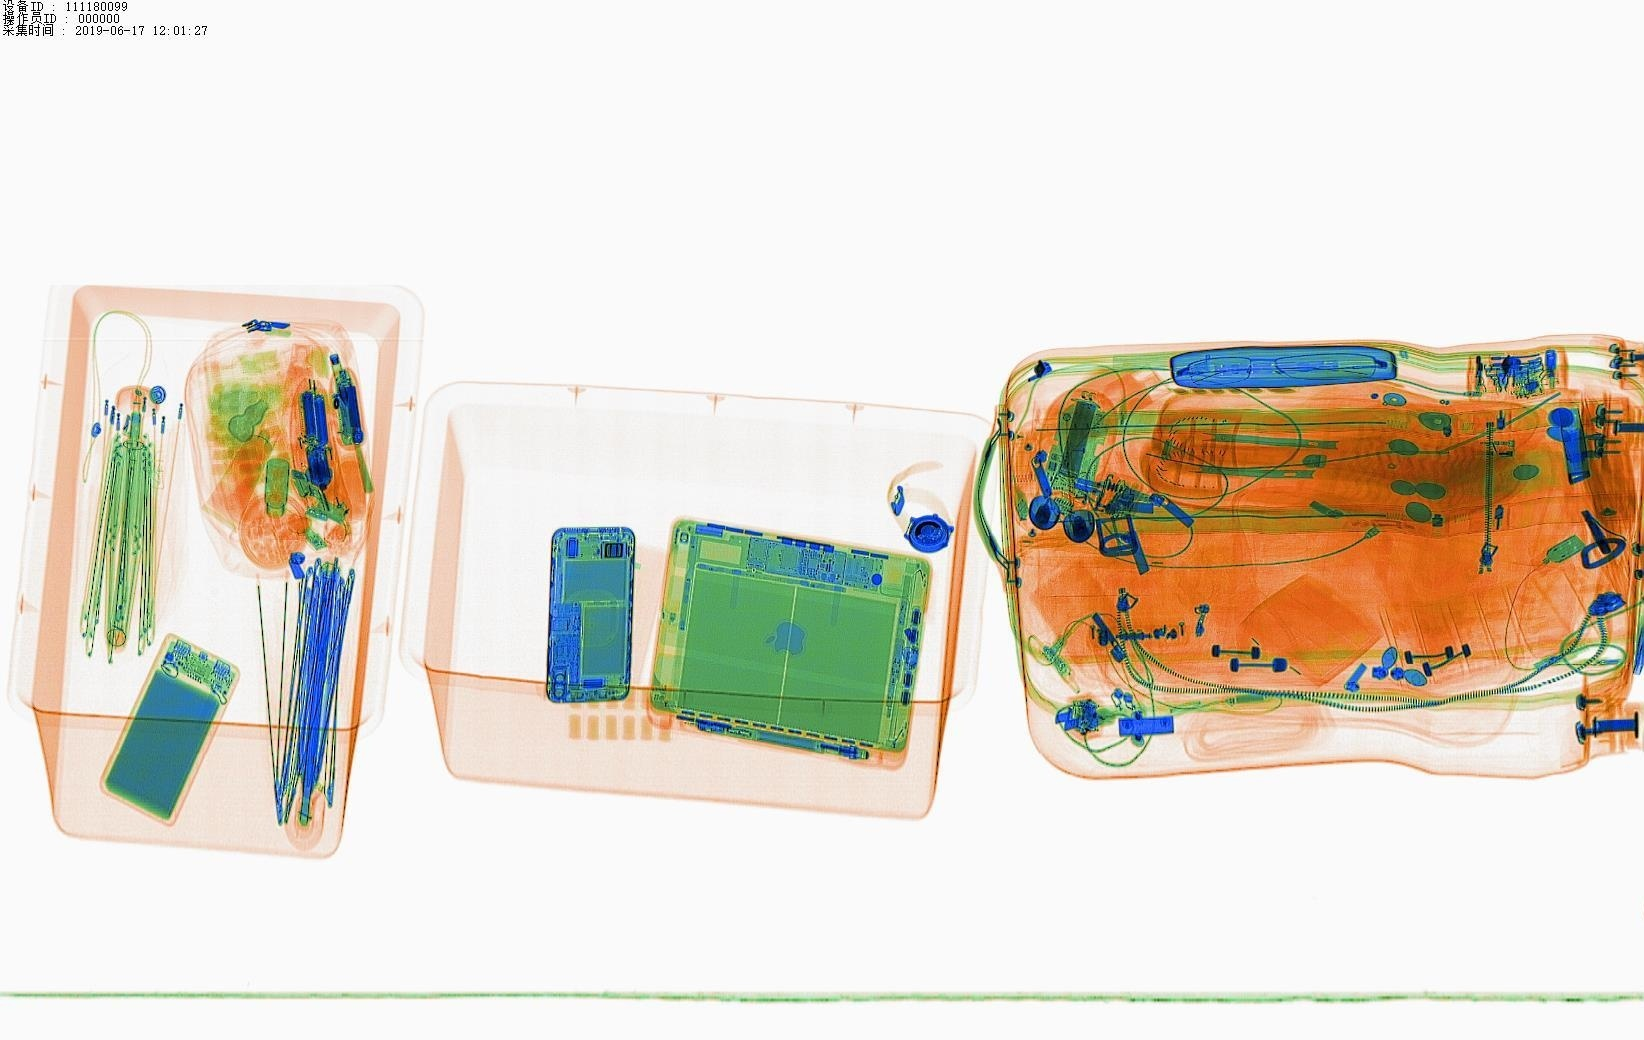NonmetallicFire: (1425, 433, 1537, 470)
